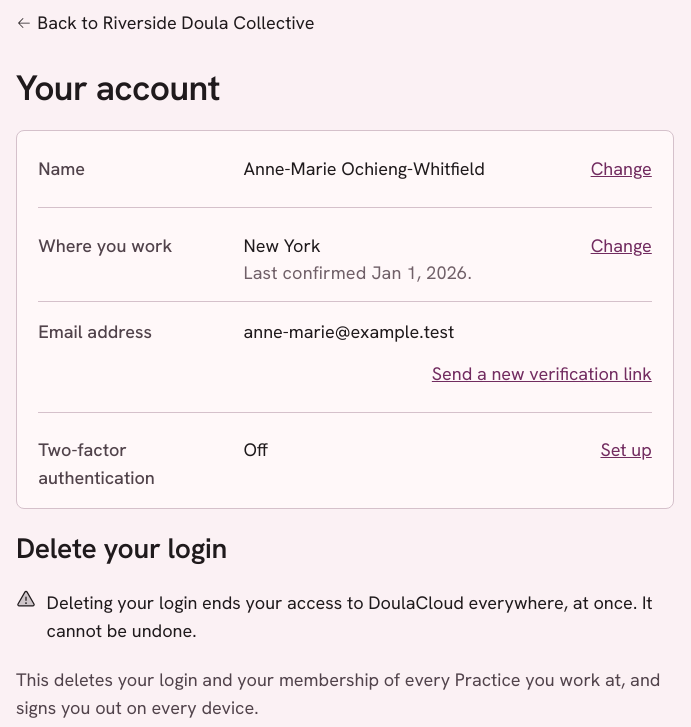
Test: the account summary › sends a fresh verification link on request
This screenshot has width=691, height=727.
Click the button "Send a new verification link".
click(542, 374)  # box [432,352,652,396]
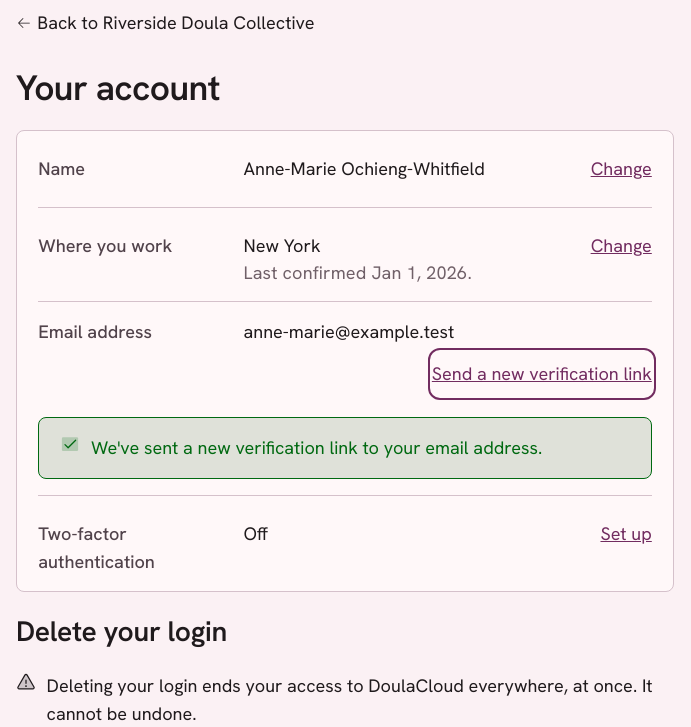
expect the message "We've sent a new verification link to your email address." is shown: met, box [38,417,652,479]
